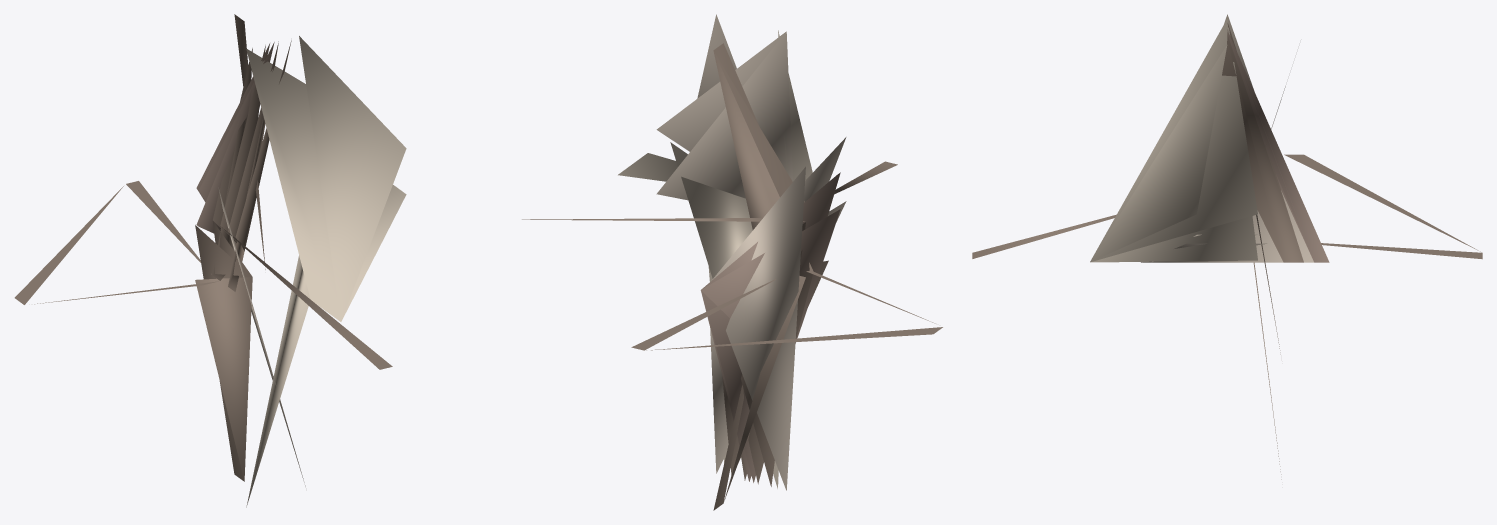
File: npc_cow_walk.glb
3 renders of one model, left to right at view 1: azimuth 30°, elevation 25°; view 2: azimuth 150°, elevation 25°; view 3: azimuth 270°, elevation 25°, orthographic.
Visible parts, largest first — view 1: npc_cow_walk; view 2: npc_cow_walk; view 3: npc_cow_walk.
Part boxes in pixels (x1,y1,x2,y2): npc_cow_walk: [14, 14, 406, 507]; npc_cow_walk: [522, 14, 942, 510]; npc_cow_walk: [972, 14, 1482, 479].
Size of the model in its own units: 2 by 2 by 2.
